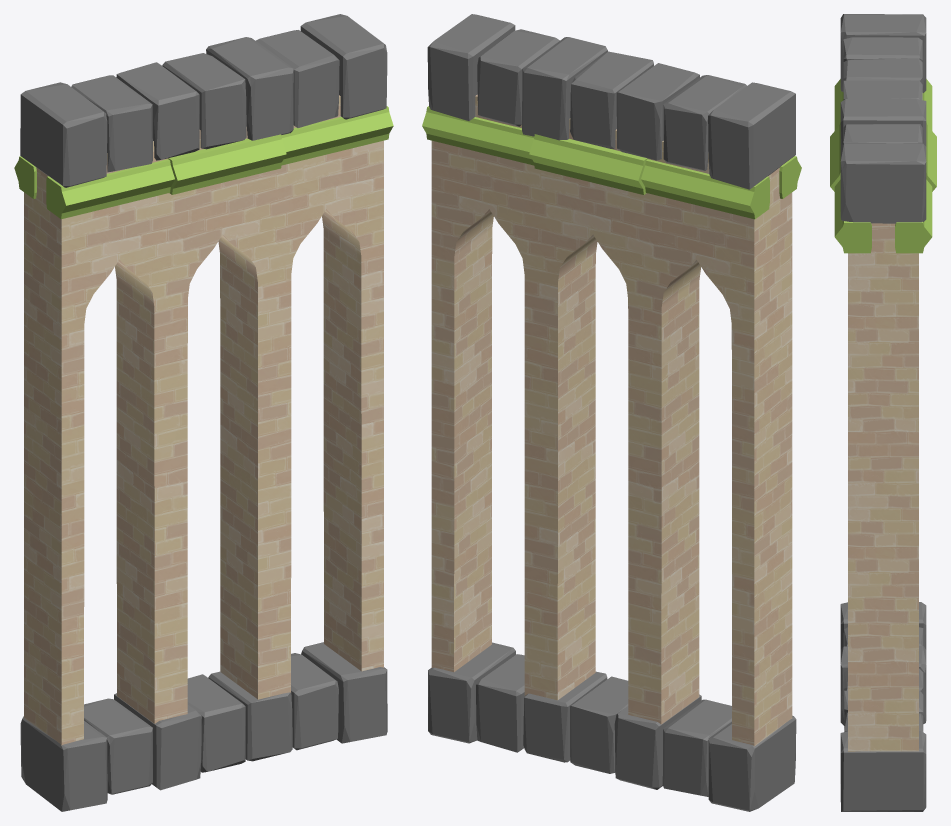
Rendered from SM_wall_arch_04.fbx.
The picture shows the model from 3 angles, left to right: view 1: azimuth 30°, elevation 25°; view 2: azimuth 150°, elevation 25°; view 3: azimuth 270°, elevation 25°; orthographic projection. The views are drawn at different scales.
Visible parts, largest first — view 1: Object32895; view 2: Object32895; view 3: Object32895.
Part boxes in pixels (<box>): Object32895: <box>14,14,393,811</box>; Object32895: <box>422,14,801,811</box>; Object32895: <box>830,14,936,811</box>.
Size of the model in its own units: 101 by 204 by 30.26.
